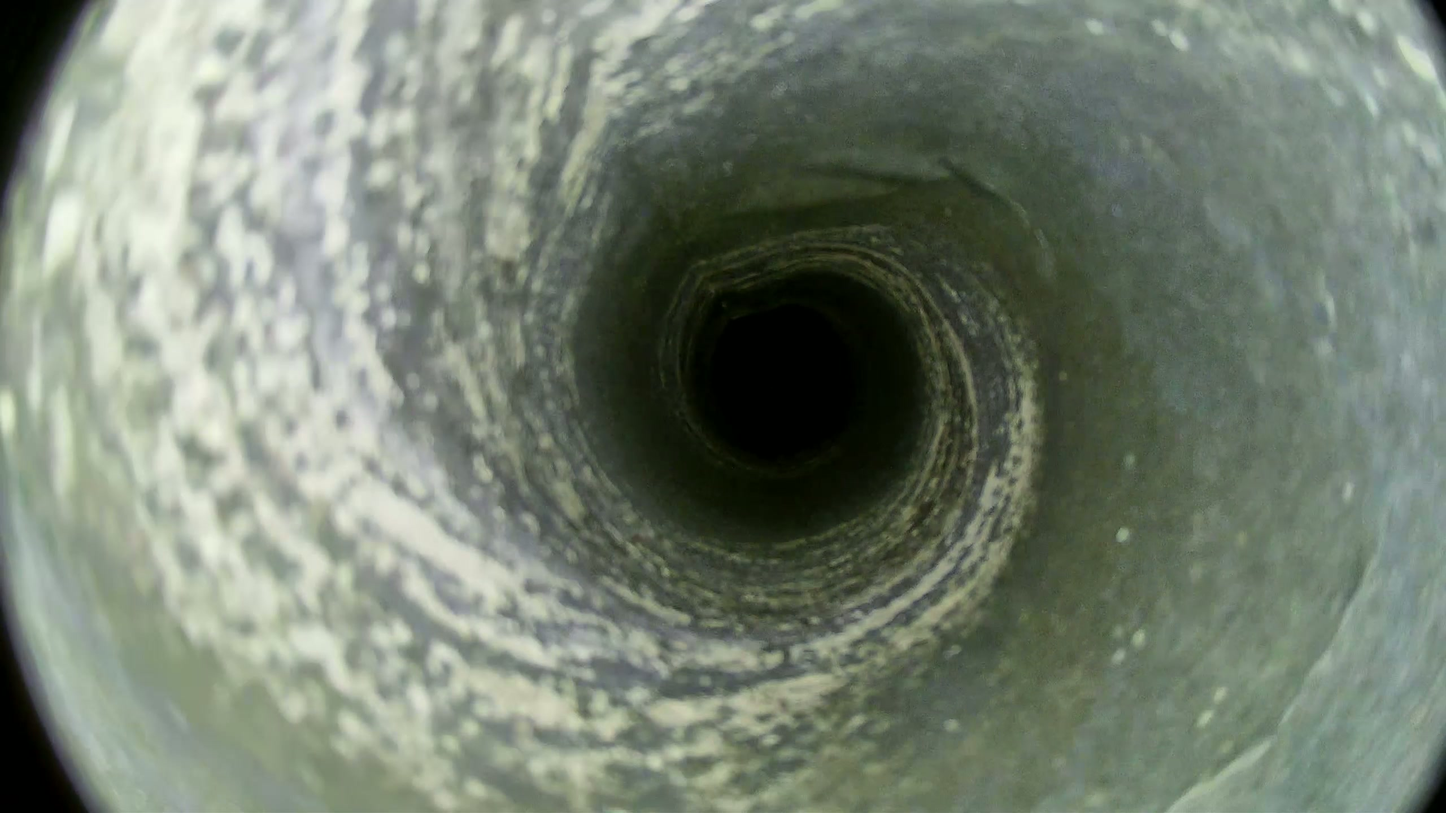hole: (711, 306, 855, 457)
